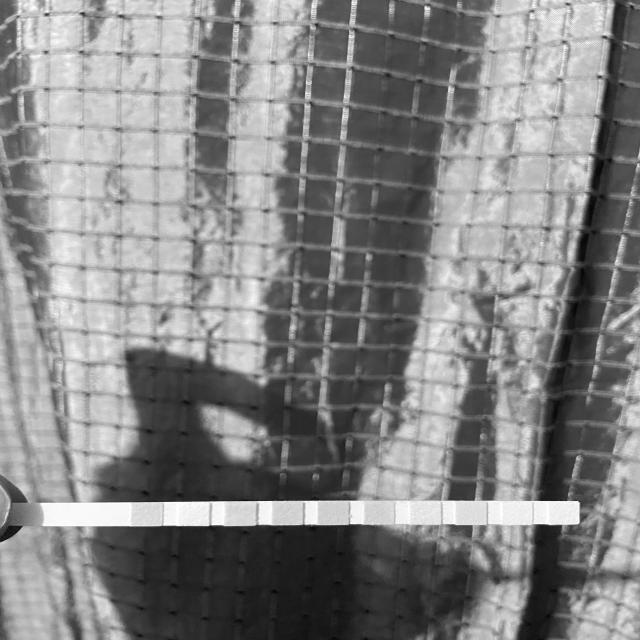Bilirubin: (179, 502, 210, 525)
Blood: (318, 501, 349, 525)
Glucose: (131, 502, 164, 526)
Ketone: (224, 502, 258, 526)
Leukocytes: (549, 501, 580, 525)
Nitrite: (502, 502, 533, 524)
Protein: (409, 501, 442, 525)
SpGravity: (271, 501, 304, 526)
Urobilinogen: (456, 501, 488, 525)
background: (0, 0, 640, 640)
pH: (364, 500, 395, 524)
strip: (22, 500, 579, 526)
